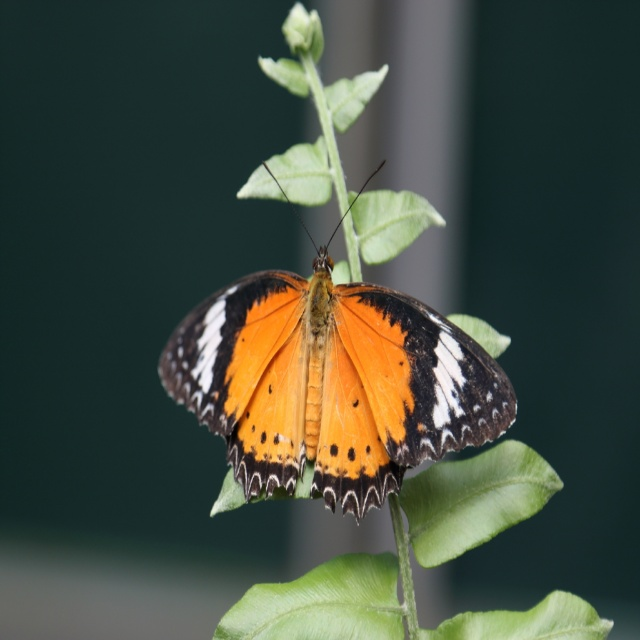Butterfly: (157, 159, 518, 526)
